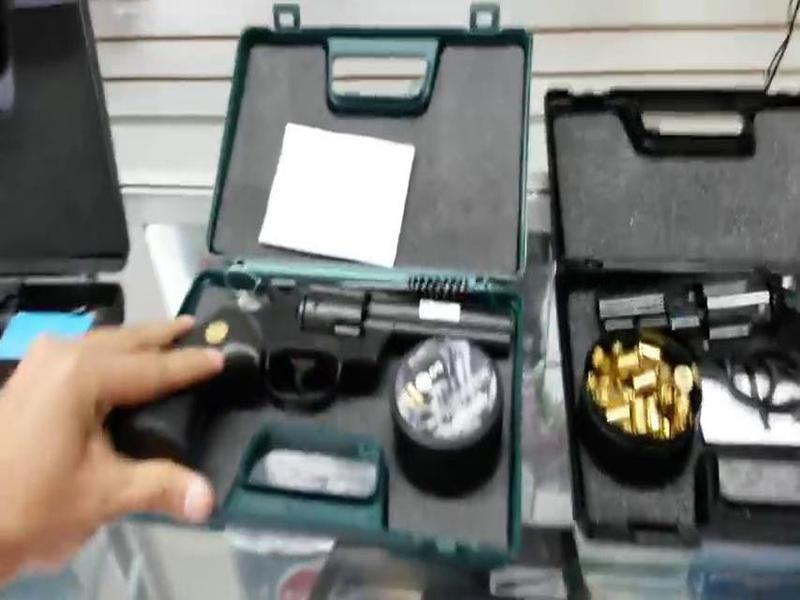Revolver: (121, 264, 557, 493), (586, 224, 800, 415)
